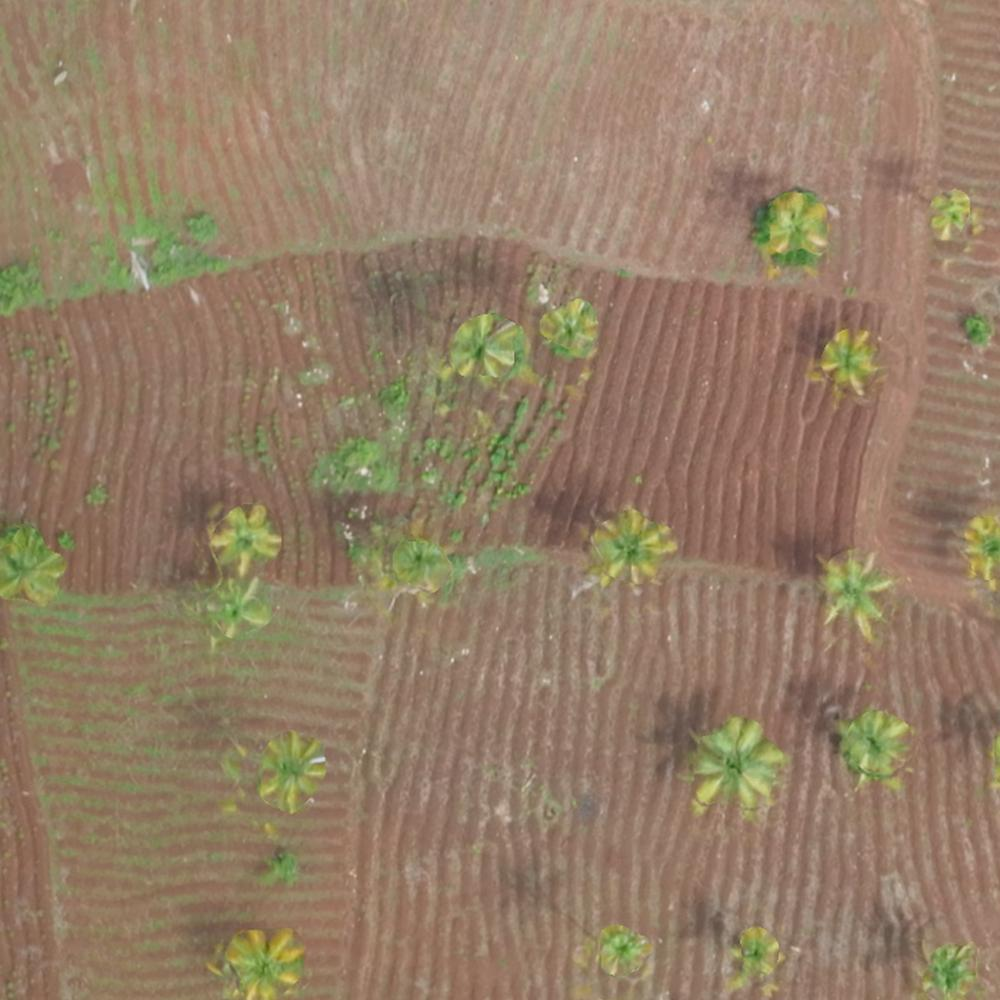not palm: (53, 845, 152, 941), (408, 816, 504, 909), (824, 36, 914, 132), (53, 27, 152, 113), (415, 687, 510, 774), (444, 60, 534, 149), (40, 689, 129, 776), (671, 348, 753, 440), (618, 35, 704, 122), (284, 73, 371, 152), (102, 343, 185, 412)
